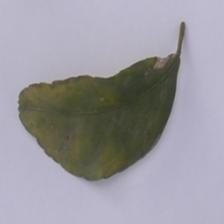greening: (13, 81, 138, 178)
